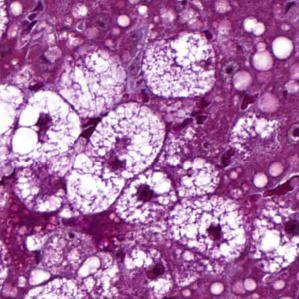ballooning: (84, 100, 167, 181), (164, 192, 248, 263), (141, 29, 217, 100), (11, 88, 83, 160), (245, 185, 299, 276), (115, 168, 177, 226)
